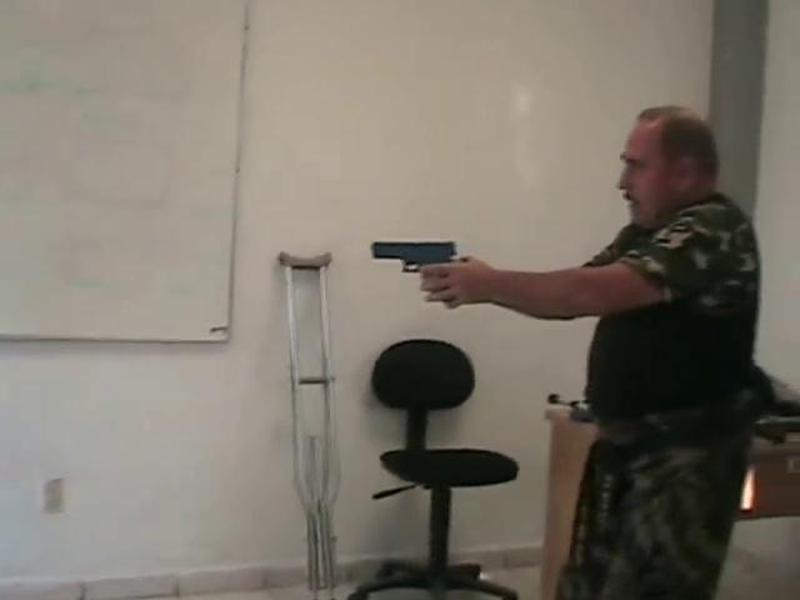Pistola: (368, 236, 465, 281)
